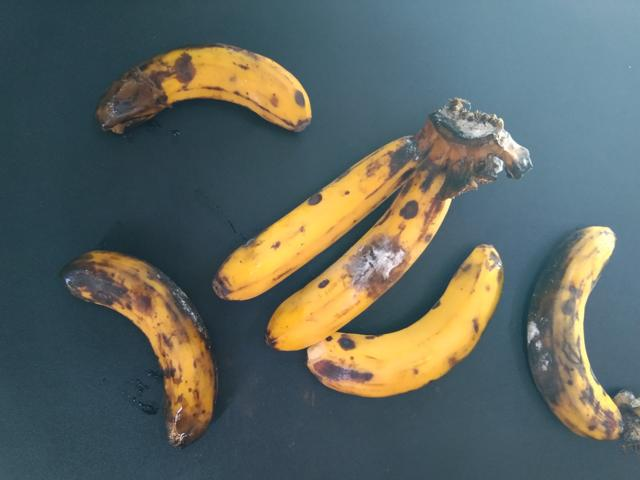overripe: (296, 242, 515, 407), (210, 130, 419, 291), (249, 185, 451, 347)
rotten: (56, 231, 223, 458), (77, 27, 324, 147), (523, 202, 627, 454), (335, 212, 406, 319)
